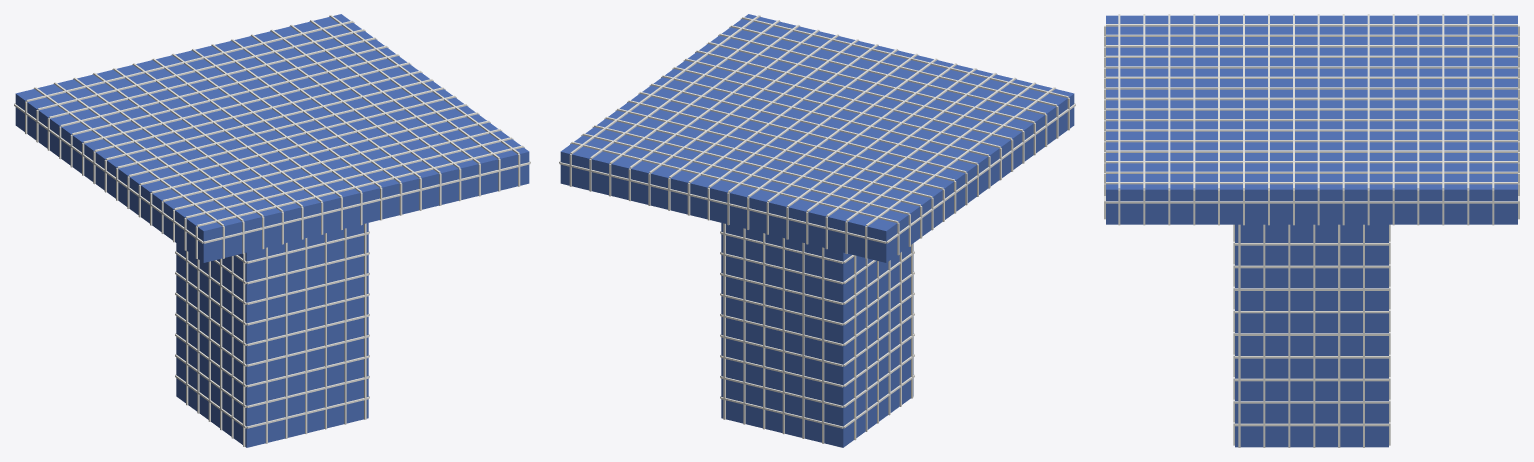
The model's file is store-table-blue.glb.
The picture shows the model from 3 angles, left to right: view 1: azimuth 30°, elevation 25°; view 2: azimuth 150°, elevation 25°; view 3: azimuth 270°, elevation 25°; orthographic projection. The views are drawn at different scales.
Parts seen in each view (by area): view 1: table-top, table-pedestal, table-top-front-h-0, table-top-top-z-11, table-top-top-z-0, table-top-top-z-3, table-top-top-z-1, table-top-top-z-2, table-top-top-z-4, table-top-top-z-9, table-top-top-z-10, table-top-top-z-8 (+32 smaller); view 2: table-top, table-pedestal, table-top-back-h-0, table-top-top-z-6, table-top-top-z-7, table-top-top-z-8, table-top-top-z-0, table-top-top-z-12, table-top-top-z-1, table-top-top-z-3, table-top-top-z-13, table-top-top-z-2 (+31 smaller); view 3: table-top, table-pedestal, table-top-top-x-7, table-top-top-x-1, table-top-top-x-8, table-top-top-x-14, table-top-top-x-10, table-top-top-x-12, table-top-top-x-0, table-top-top-x-2, table-top-top-x-4, table-top-top-x-5 (+34 smaller).
Part boxes in pixels (x1=…): table-top: x1=15, y1=14, x2=529, y2=262; table-pedestal: x1=176, y1=223, x2=368, y2=447; table-top-front-h-0: x1=203, y1=162, x2=530, y2=243; table-top-top-z-11: x1=151, y1=112, x2=478, y2=193; table-top-top-z-0: x1=26, y1=20, x2=353, y2=101; table-top-top-z-3: x1=60, y1=45, x2=387, y2=126; table-top-top-z-1: x1=37, y1=29, x2=364, y2=110; table-top-top-z-2: x1=49, y1=37, x2=375, y2=118; table-top-top-z-4: x1=72, y1=54, x2=398, y2=135; table-top-top-z-9: x1=128, y1=95, x2=455, y2=176; table-top-top-z-10: x1=140, y1=104, x2=466, y2=185; table-top-top-z-8: x1=117, y1=87, x2=443, y2=168; table-top: x1=560, y1=14, x2=1074, y2=262; table-pedestal: x1=721, y1=223, x2=913, y2=447; table-top-back-h-0: x1=559, y1=162, x2=886, y2=243; table-top-top-z-6: x1=639, y1=91, x2=966, y2=173; table-top-top-z-7: x1=651, y1=83, x2=977, y2=164; table-top-top-z-8: x1=662, y1=75, x2=988, y2=156; table-top-top-z-0: x1=571, y1=141, x2=898, y2=222; table-top-top-z-12: x1=708, y1=42, x2=1034, y2=123; table-top-top-z-1: x1=582, y1=133, x2=909, y2=214; table-top-top-z-3: x1=605, y1=116, x2=932, y2=198; table-top-top-z-13: x1=719, y1=33, x2=1045, y2=114; table-top-top-z-2: x1=594, y1=125, x2=920, y2=206; table-top: x1=1106, y1=15, x2=1517, y2=224; table-pedestal: x1=1235, y1=224, x2=1388, y2=447; table-top-top-x-7: x1=1106, y1=97, x2=1517, y2=100; table-top-top-x-1: x1=1106, y1=34, x2=1517, y2=36; table-top-top-x-8: x1=1106, y1=108, x2=1517, y2=110; table-top-top-x-14: x1=1106, y1=171, x2=1517, y2=173; table-top-top-x-10: x1=1106, y1=129, x2=1517, y2=131; table-top-top-x-12: x1=1106, y1=150, x2=1517, y2=152; table-top-top-x-0: x1=1106, y1=24, x2=1517, y2=26; table-top-top-x-2: x1=1106, y1=45, x2=1517, y2=47; table-top-top-x-4: x1=1106, y1=66, x2=1517, y2=68; table-top-top-x-5: x1=1106, y1=76, x2=1517, y2=78.
Bounding box in the file's own units: 0.9175 × 0.7638 × 0.9175.
